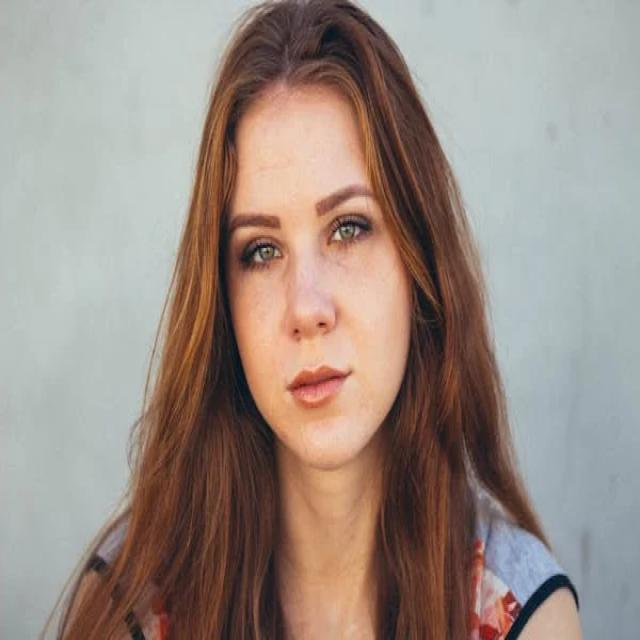no_mask: (215, 68, 432, 490)
